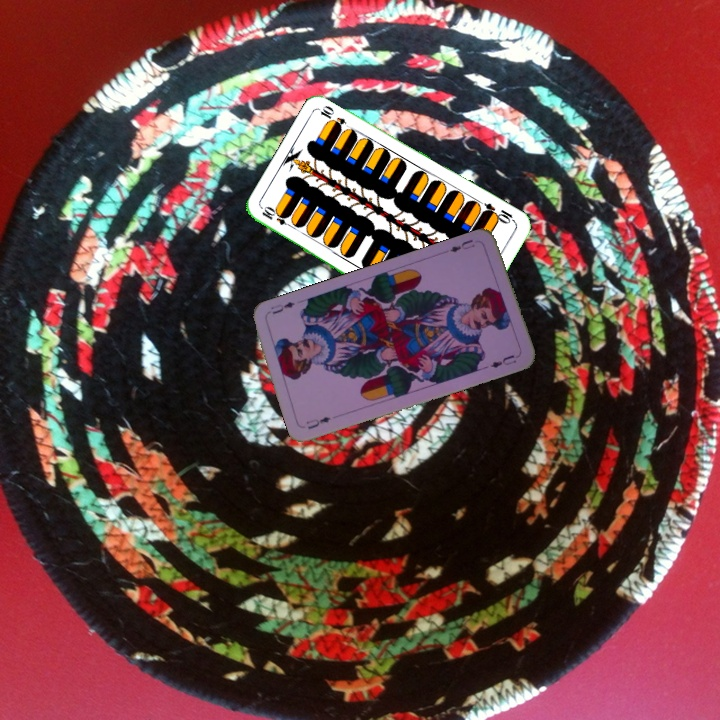E10: (479, 199, 518, 226), (258, 204, 296, 230)
EU: (446, 235, 477, 255), (302, 413, 333, 432)
